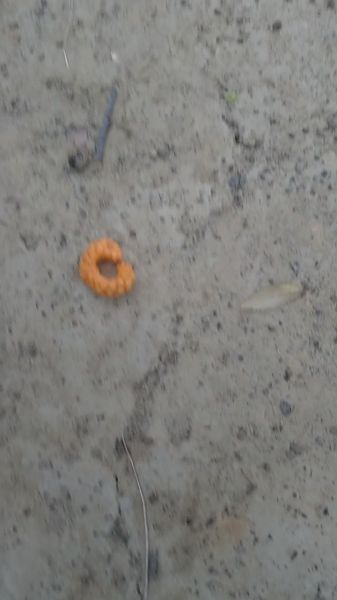eggs: (72, 222, 142, 301)
